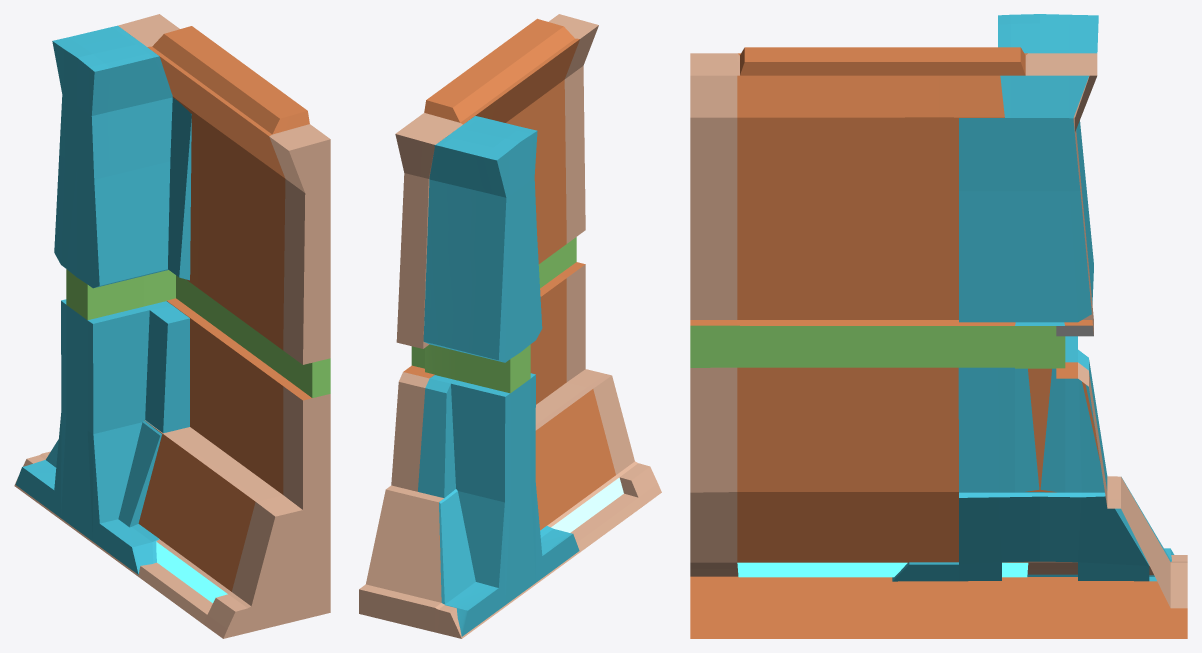
File: T2_SpecialWallOutside.fbx
3 renders of one model, left to right at view 1: azimuth 30°, elevation 25°; view 2: azimuth 150°, elevation 25°; view 3: azimuth 270°, elevation 25°, orthographic. The views are drawn at different scales.
Parts seen in each view (by area): view 1: T2_WalllNew001; view 2: T2_WalllNew001; view 3: T2_WalllNew001.
Part boxes in pixels (<box>): T2_WalllNew001: <box>14,14,330,638</box>; T2_WalllNew001: <box>359,14,661,638</box>; T2_WalllNew001: <box>690,14,1187,638</box>.
Size of the model in its own units: 59.36 by 256 by 200.
